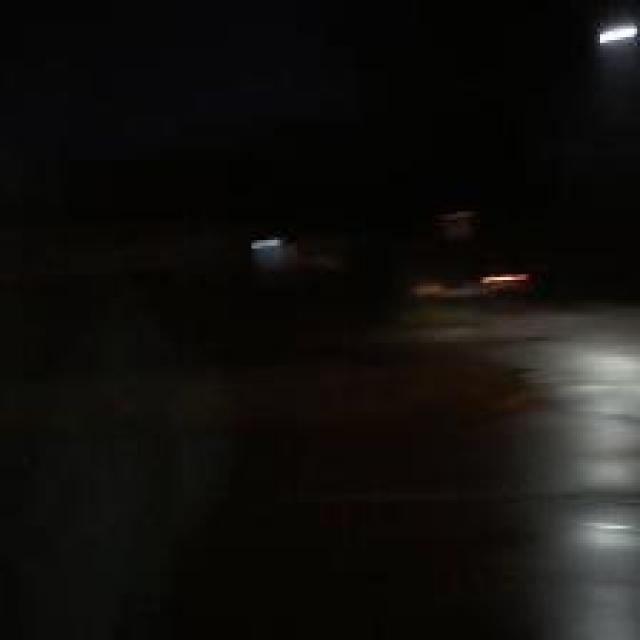other: (470, 254, 538, 313), (572, 14, 634, 60)
